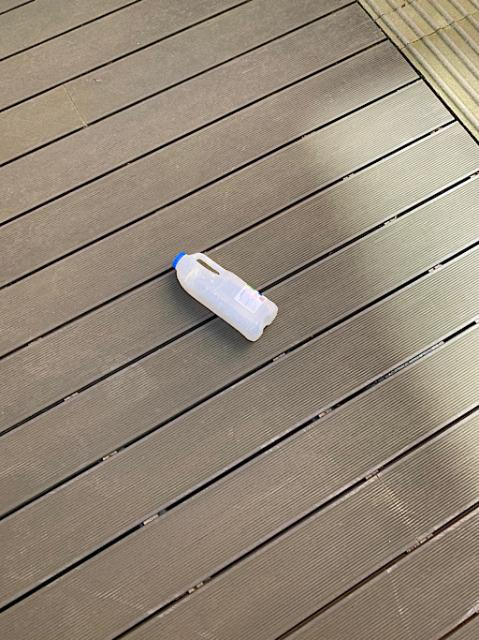plastic: (171, 251, 276, 339)
